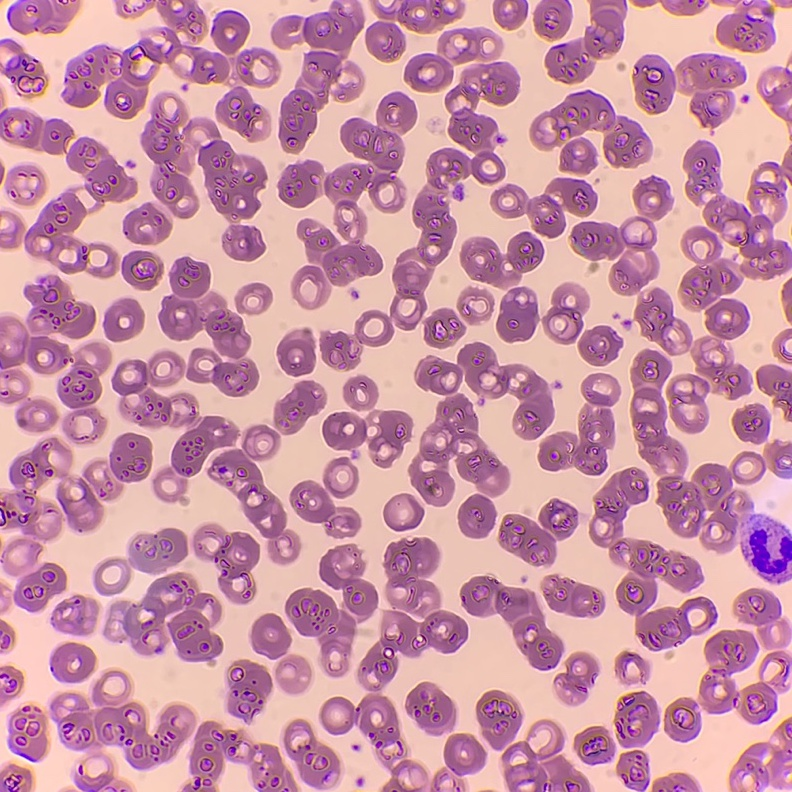RBC: (320, 62, 519, 368), (63, 0, 277, 118), (631, 350, 750, 552), (297, 92, 416, 284), (112, 351, 237, 501), (590, 468, 702, 613), (51, 671, 194, 769), (272, 0, 363, 152), (415, 343, 553, 438), (209, 425, 298, 562), (571, 177, 671, 294), (409, 395, 508, 505), (104, 573, 222, 661), (321, 694, 426, 791), (461, 576, 563, 669), (530, 91, 651, 167), (159, 258, 249, 357), (358, 611, 467, 690), (699, 630, 790, 723), (2, 438, 61, 574), (25, 190, 116, 277), (184, 722, 296, 791), (704, 195, 791, 278), (141, 93, 197, 217), (545, 0, 625, 82), (199, 123, 265, 222), (491, 178, 596, 236), (503, 721, 589, 791), (286, 589, 355, 676), (290, 458, 360, 537), (695, 299, 750, 398), (366, 0, 452, 61), (58, 343, 110, 443), (193, 525, 259, 603), (499, 500, 577, 565), (539, 408, 614, 474), (323, 411, 411, 466), (677, 54, 744, 126), (680, 227, 739, 308), (67, 137, 136, 201), (25, 275, 95, 338), (730, 719, 791, 791), (461, 232, 542, 286), (320, 544, 377, 619), (636, 597, 716, 650), (385, 538, 439, 614), (0, 317, 70, 373), (284, 720, 339, 788), (635, 289, 691, 354), (0, 370, 56, 431), (187, 348, 257, 396), (734, 589, 791, 647), (0, 109, 72, 154), (741, 522, 791, 583), (227, 660, 271, 721), (543, 284, 588, 343), (274, 381, 325, 433), (717, 4, 773, 51), (129, 528, 187, 573), (476, 691, 521, 749), (216, 87, 265, 139), (748, 150, 791, 209), (56, 476, 102, 531), (543, 575, 604, 616), (406, 683, 455, 734), (14, 563, 65, 611), (633, 55, 675, 113), (615, 692, 658, 747), (667, 375, 708, 432), (9, 0, 75, 33), (684, 141, 720, 201), (497, 287, 537, 341), (557, 653, 598, 704), (5, 47, 47, 96), (438, 28, 498, 62), (279, 161, 323, 207), (9, 706, 46, 760), (110, 433, 151, 481), (123, 204, 170, 244), (757, 365, 791, 420), (759, 67, 791, 124), (404, 54, 452, 91), (52, 596, 97, 635), (277, 329, 315, 375), (251, 614, 290, 658), (579, 326, 622, 365), (51, 643, 94, 682), (444, 734, 485, 774), (104, 299, 143, 340), (458, 495, 495, 537), (212, 11, 248, 54), (664, 698, 700, 741), (122, 251, 162, 289), (424, 309, 464, 347), (292, 266, 328, 308), (6, 165, 44, 204), (574, 726, 614, 763), (222, 225, 264, 260), (534, 0, 571, 38), (384, 494, 423, 530), (733, 404, 769, 442), (94, 559, 130, 594), (617, 751, 648, 790), (560, 139, 595, 173), (582, 374, 619, 406), (458, 288, 492, 322), (276, 658, 310, 692), (344, 376, 377, 409), (236, 283, 271, 313), (615, 652, 648, 683), (733, 452, 765, 483), (493, 0, 527, 28), (652, 773, 698, 791), (766, 444, 791, 476), (0, 666, 22, 702), (0, 766, 31, 791), (77, 773, 112, 791), (0, 223, 23, 247), (662, 0, 699, 14), (94, 480, 114, 499), (0, 621, 14, 645), (782, 281, 791, 318), (116, 0, 126, 14), (635, 0, 653, 5), (430, 782, 440, 791), (454, 188, 462, 198), (84, 469, 92, 477), (438, 771, 446, 779)
